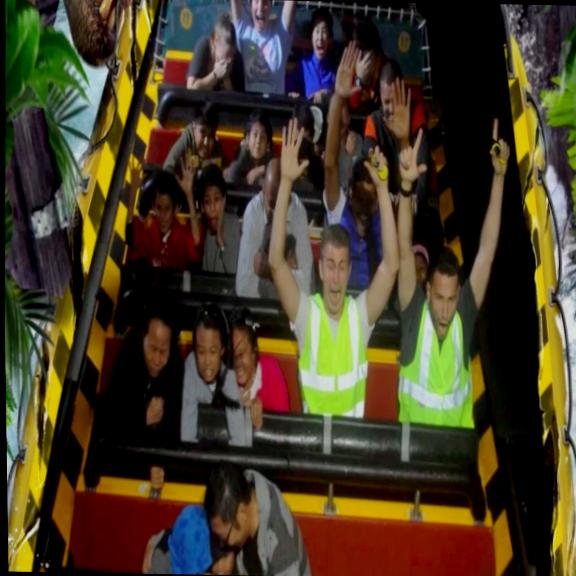safety_vest: (394, 300, 475, 430), (293, 288, 370, 417)
